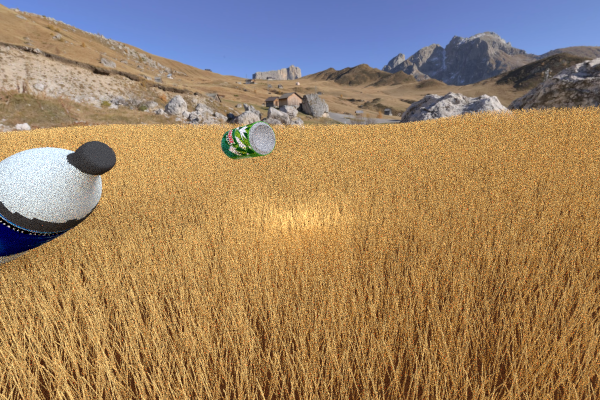bottle: (0, 140, 116, 272)
can: (400, 121, 461, 156), (220, 121, 275, 159)
